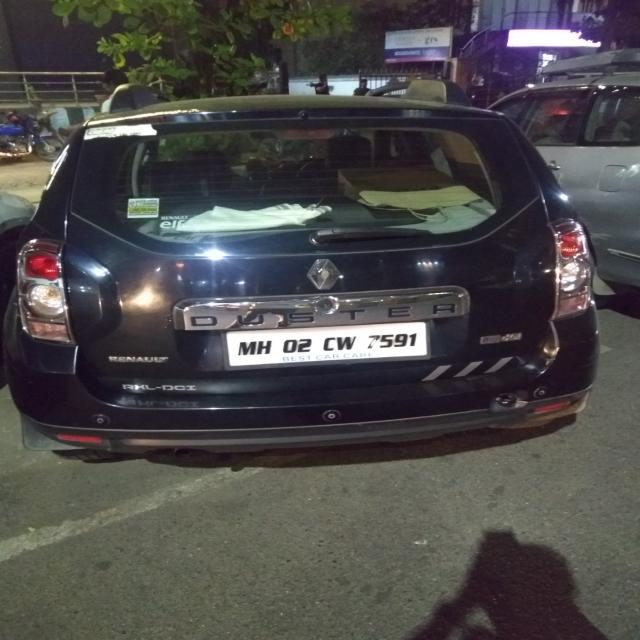Number-Plate: (225, 326, 427, 364)
